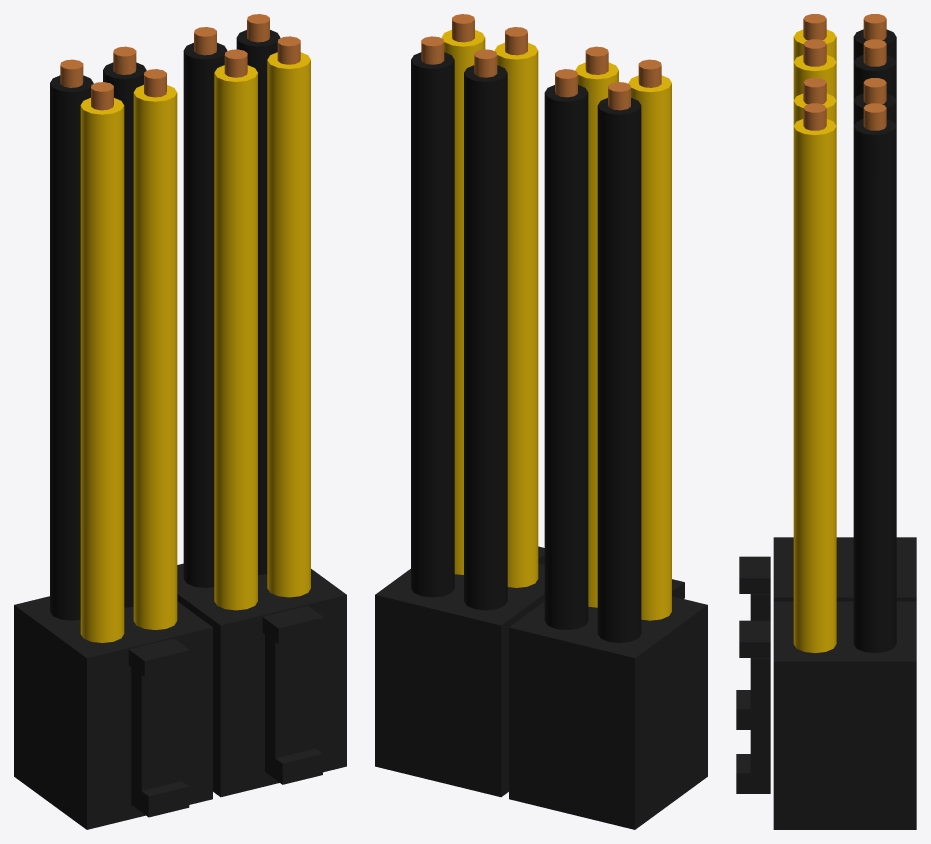
File: eps8.glb
3 renders of one model, left to right at view 1: azimuth 30°, elevation 25°; view 2: azimuth 150°, elevation 25°; view 3: azimuth 270°, elevation 25°, orthographic. The views are drawn at different scales.
Visible parts, largest first — view 1: cable_eps8; view 2: cable_eps8; view 3: cable_eps8.
Part boxes in pixels (bbox=[...]): cable_eps8: bbox=[14, 14, 346, 829]; cable_eps8: bbox=[375, 14, 707, 829]; cable_eps8: bbox=[736, 14, 916, 829].
Bounding box in the file's own units: 0.0991 × 0.2638 × 0.0606.
